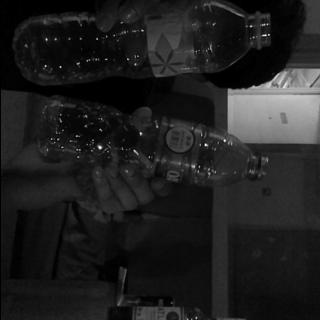plastic_bottles: (12, 0, 270, 88), (32, 94, 269, 185)
